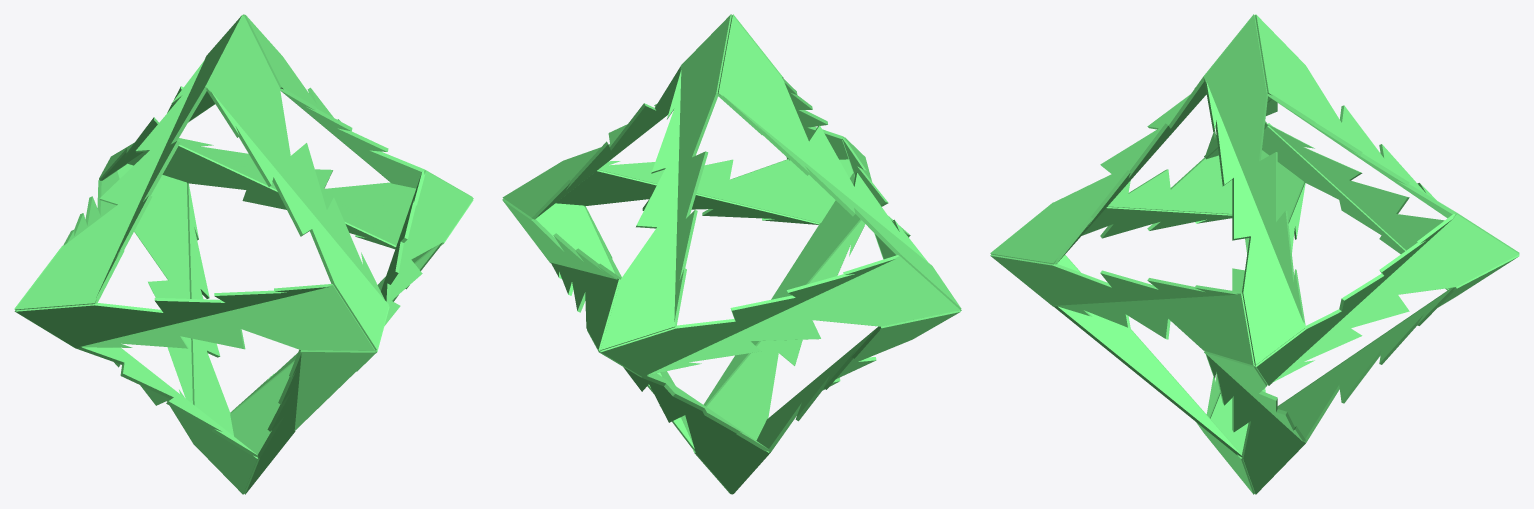
The model's file is Octahedron2.glb.
3 views of the same model, side by side, from view 1: azimuth 30°, elevation 25°; view 2: azimuth 150°, elevation 25°; view 3: azimuth 270°, elevation 25° (orthographic).
Visible parts, largest first — view 1: root; view 2: root; view 3: root.
Part boxes in pixels (x1,y1,x2,y2): root: (14, 14, 473, 494); root: (502, 14, 961, 494); root: (990, 14, 1519, 494).
Bounding box in the file's own units: 1.42 × 1.42 × 1.42.
